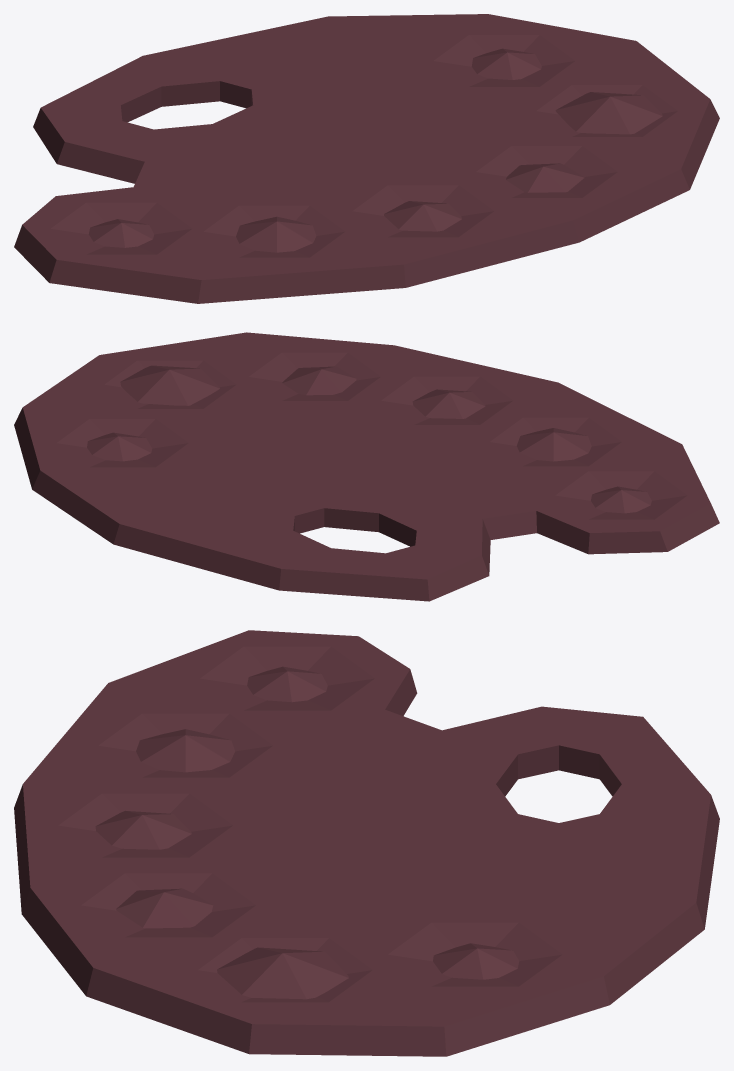
Rendered from palette-color-full.fbx.
3 views of the same model, one above another, from view 1: azimuth 30°, elevation 25°; view 2: azimuth 150°, elevation 25°; view 3: azimuth 270°, elevation 25° (orthographic). The views are drawn at different scales.
Visible parts, largest first — view 1: palette-color-full; view 2: palette-color-full; view 3: palette-color-full.
Part boxes in pixels (x1,y1,x2,y2): palette-color-full: (14,14,719,303); palette-color-full: (14,332,719,601); palette-color-full: (14,630,719,1056).
Bounding box in the file's own units: 0.3026 × 0.015 × 0.222.
